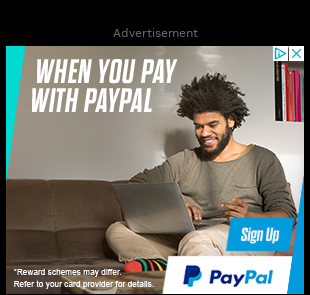fake_button: (269, 41, 307, 67)
